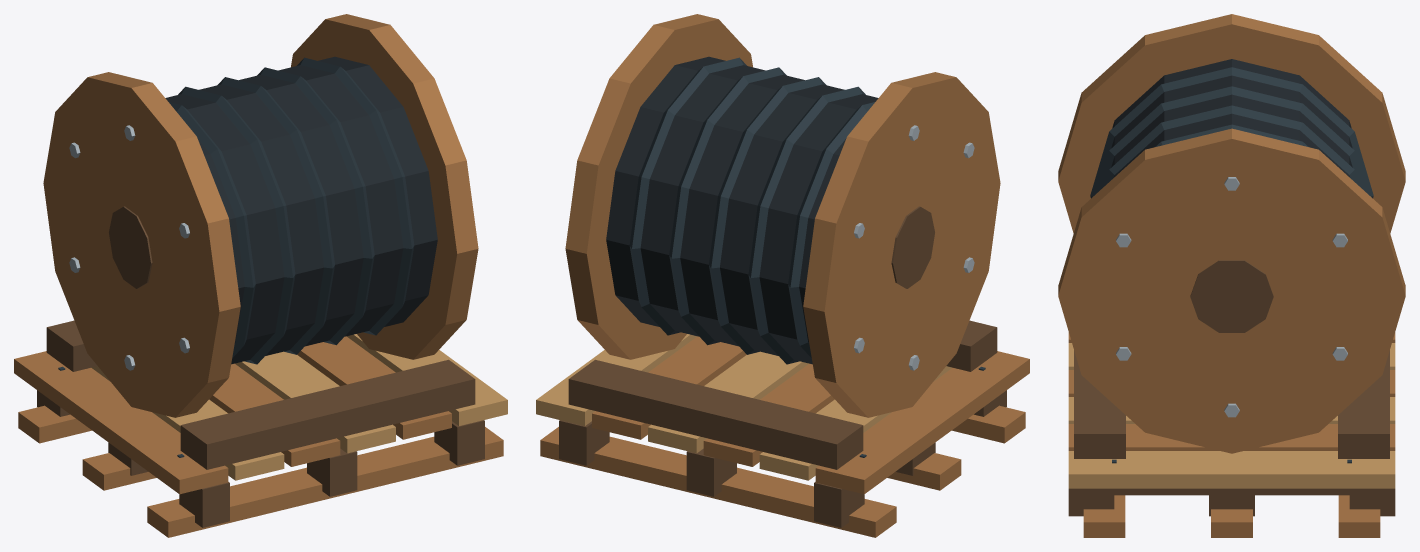
The model's file is b14_wooden_cable_reel_on_skid.glb.
3 renders of one model, left to right at view 1: azimuth 30°, elevation 25°; view 2: azimuth 150°, elevation 25°; view 3: azimuth 270°, elevation 25°, orthographic.
Parts seen in each view (by area): view 1: b14_wooden_cable_reel_on_skid; view 2: b14_wooden_cable_reel_on_skid; view 3: b14_wooden_cable_reel_on_skid.
Boxes of the visible parts, x1=… form: b14_wooden_cable_reel_on_skid: x1=14, y1=14, x2=507, y2=537; b14_wooden_cable_reel_on_skid: x1=536, y1=14, x2=1029, y2=537; b14_wooden_cable_reel_on_skid: x1=1058, y1=14, x2=1405, y2=537.
Bounding box in the file's own units: 1.1 × 1.21 × 1.
